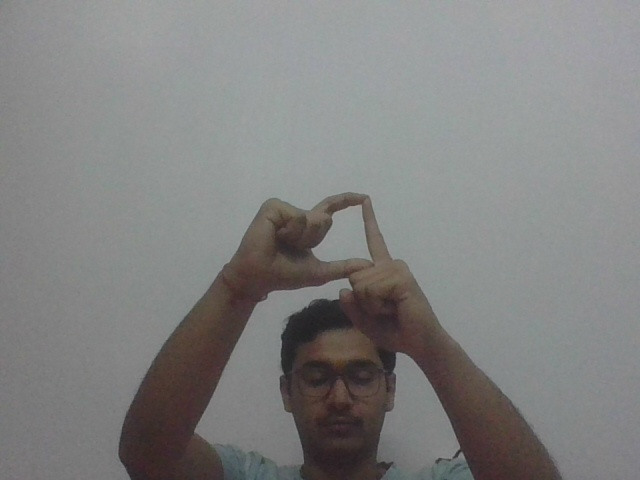D: (242, 188, 440, 343)
